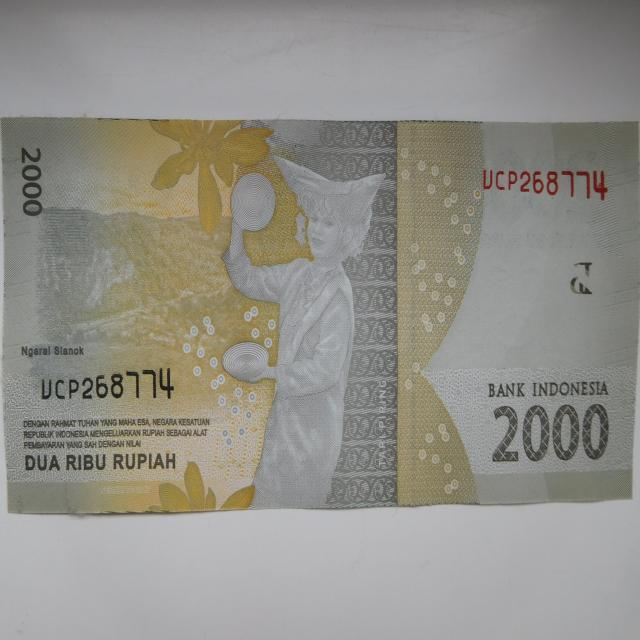dua ribu rupiah: (0, 118, 640, 504), (220, 148, 371, 510), (467, 373, 625, 477)
